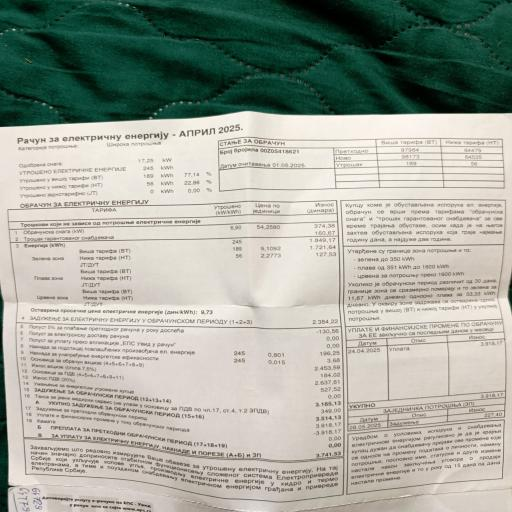racun_za_struju: (6, 200, 338, 328)
